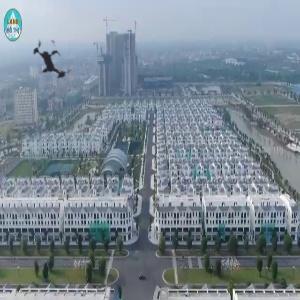drone: (14, 25, 87, 98)
